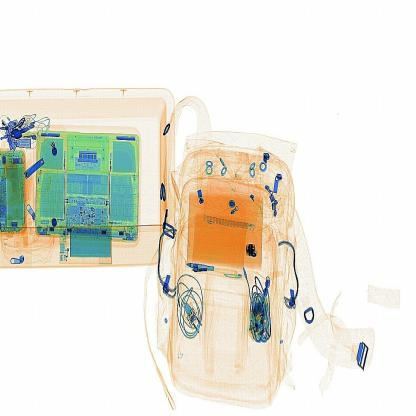scissors: (246, 240, 261, 263)
